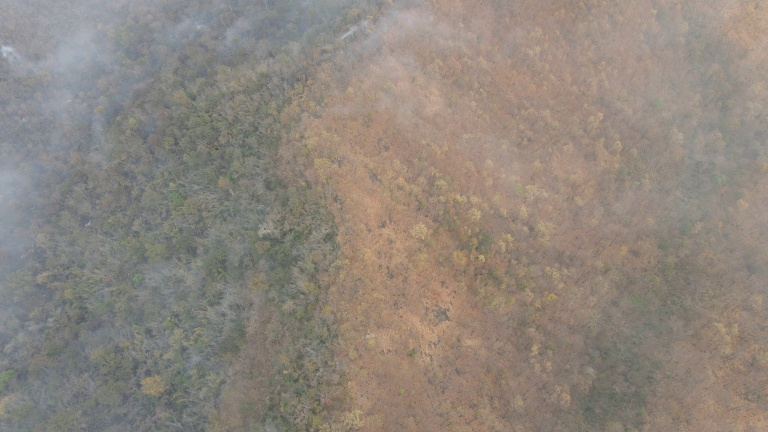smoke: (1, 1, 156, 217), (181, 2, 427, 87)
